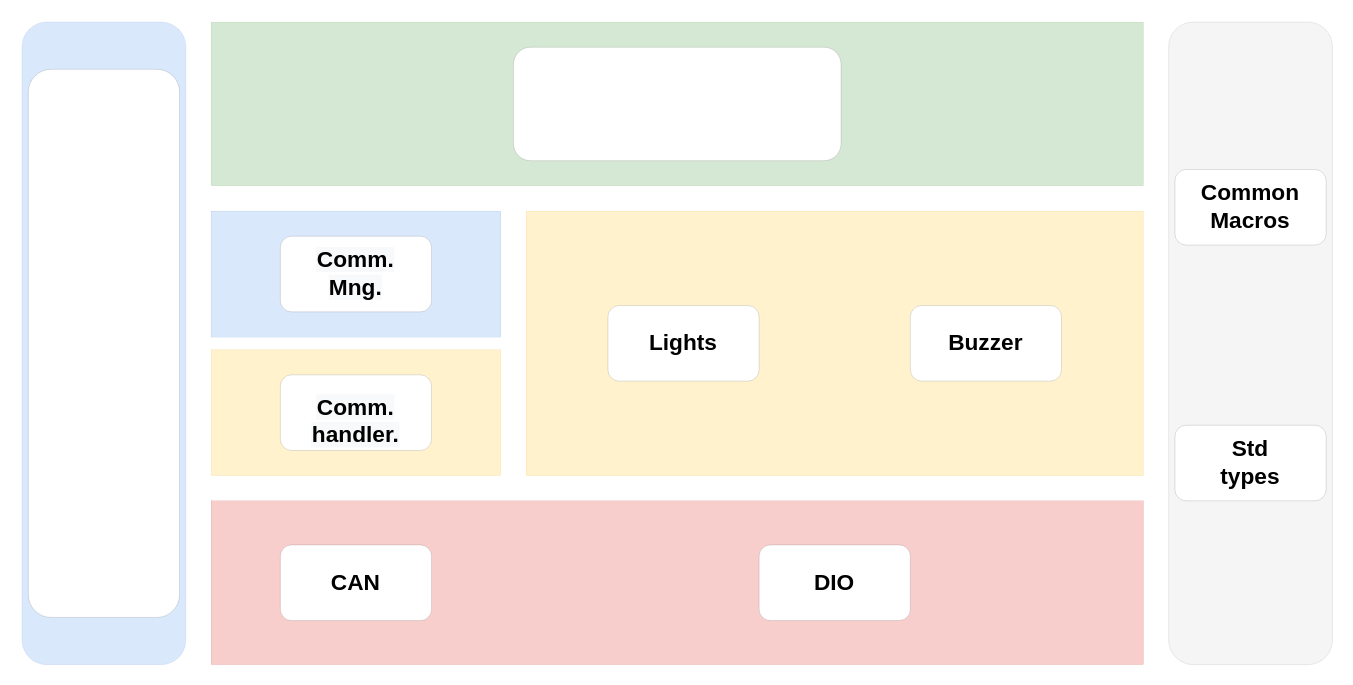
This 1353x685 diagram has some shape labels left out. The centre of each missing label's shape, as x and y in pixels:
ECU-2 Application: point 676,103
OS: point 103,343
